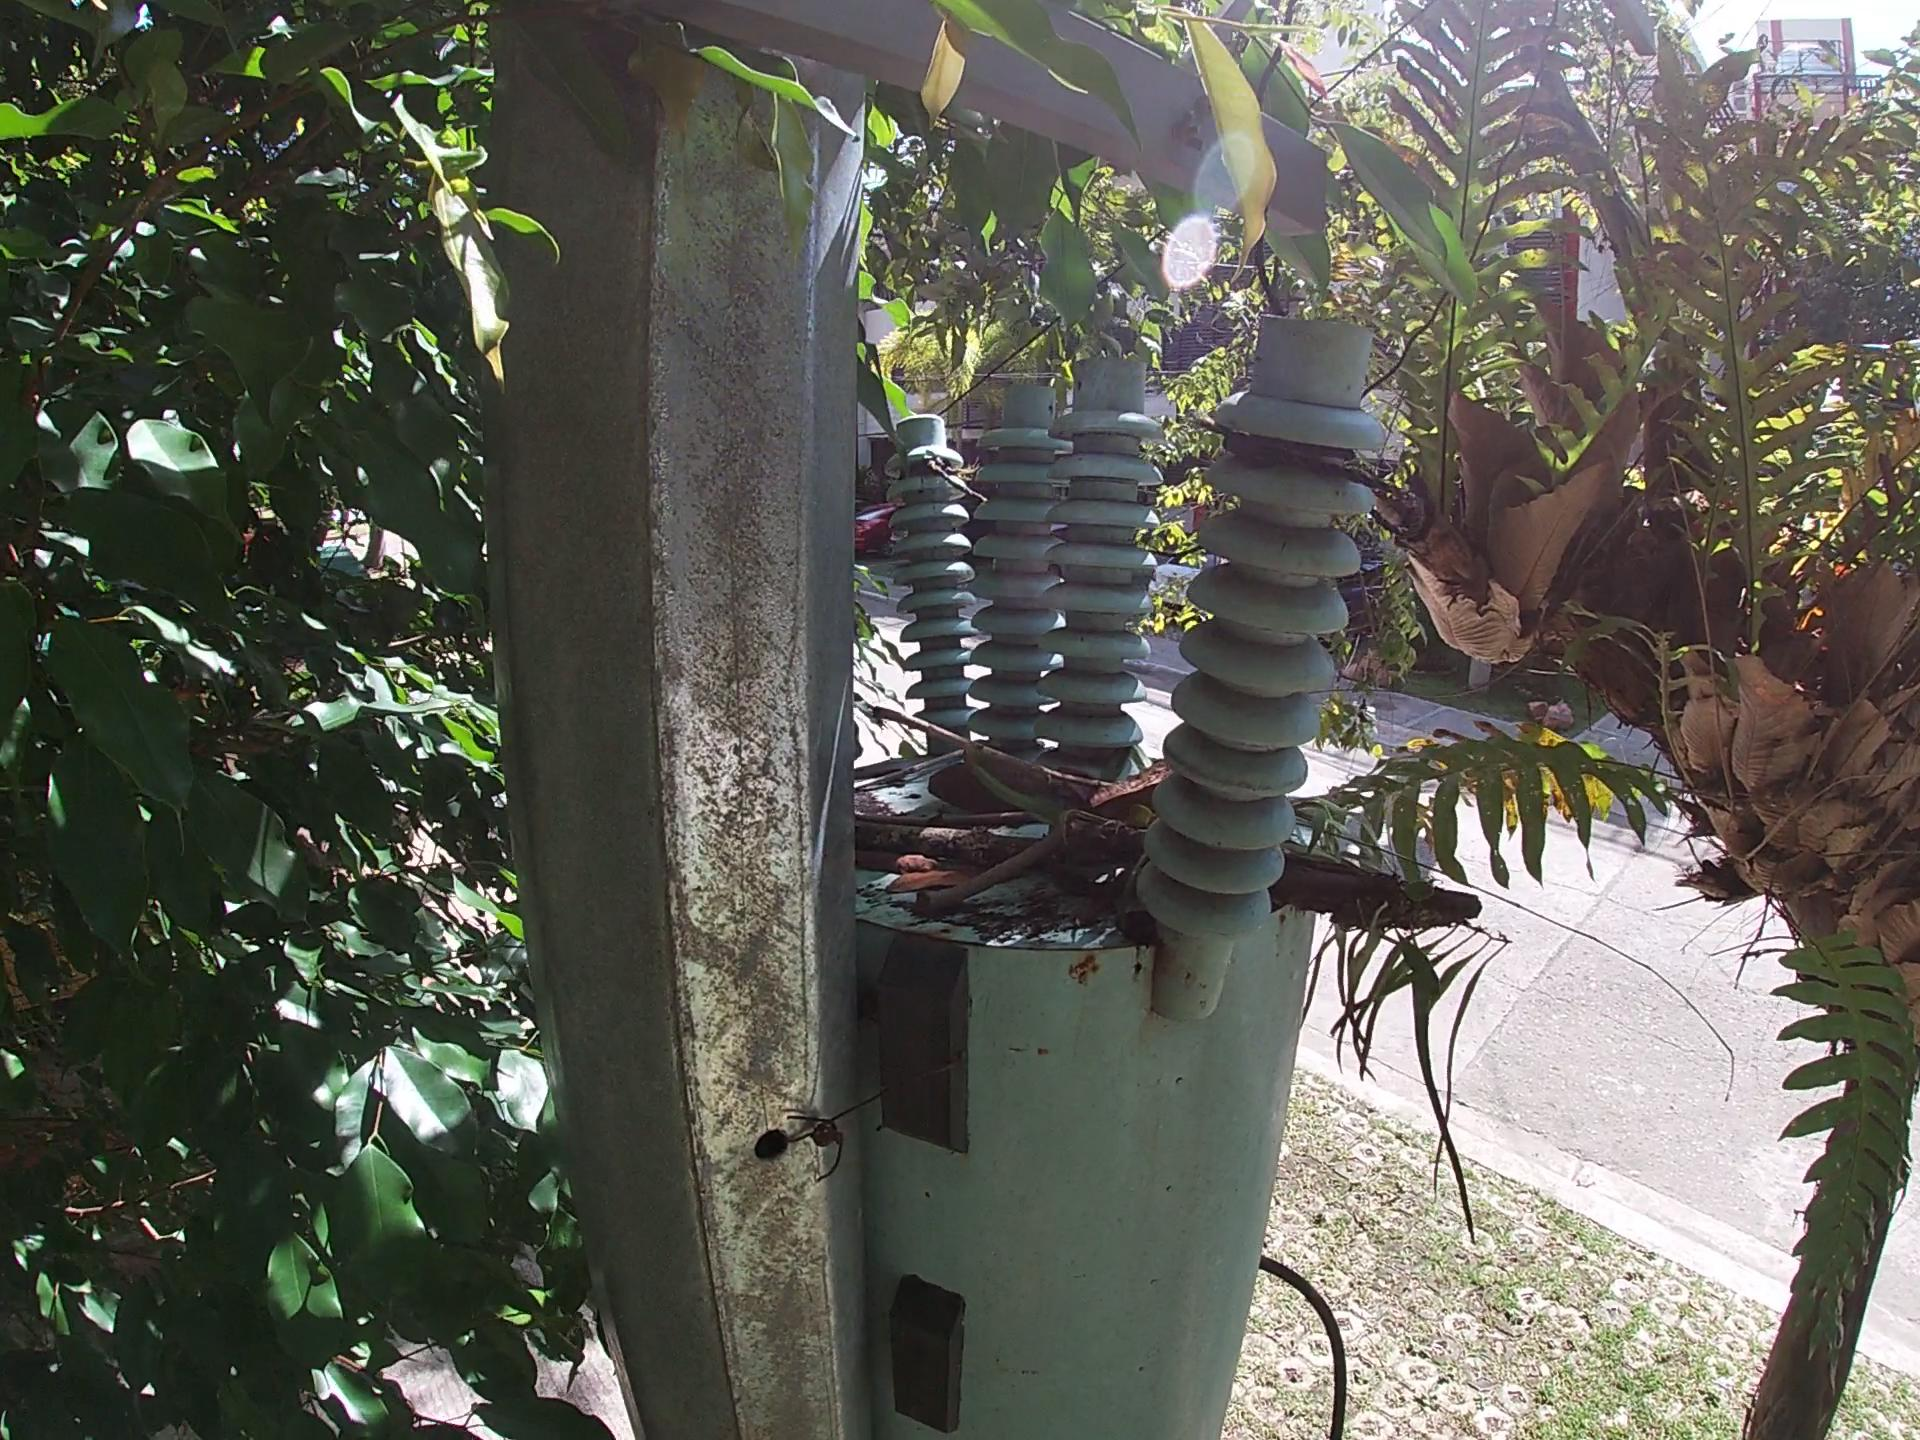branch with leaves: (857, 820, 1463, 920)
leaf: (878, 843, 954, 929)
mahogany fruit: (838, 687, 1002, 756)
tree branch: (844, 694, 1686, 986), (918, 862, 1089, 933), (854, 722, 1002, 777)
